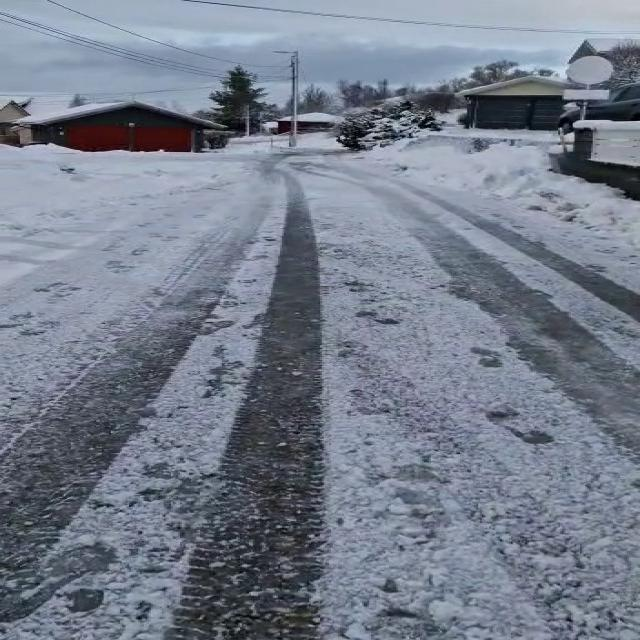path: (0, 150, 640, 640)
